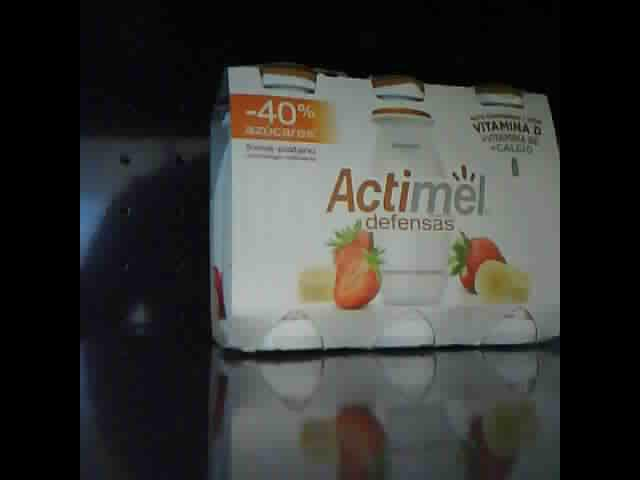actimel: (208, 60, 561, 352)
